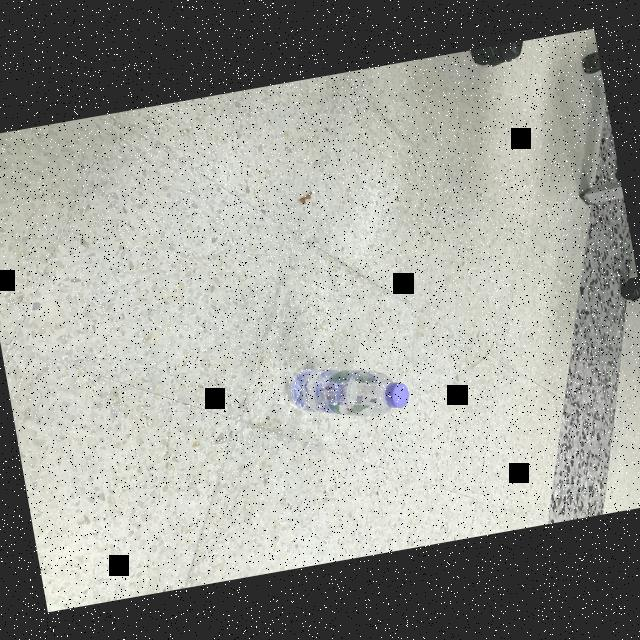plastic_bottle: (278, 352, 409, 432)
plastic_bottle_cap: (382, 381, 408, 409)
